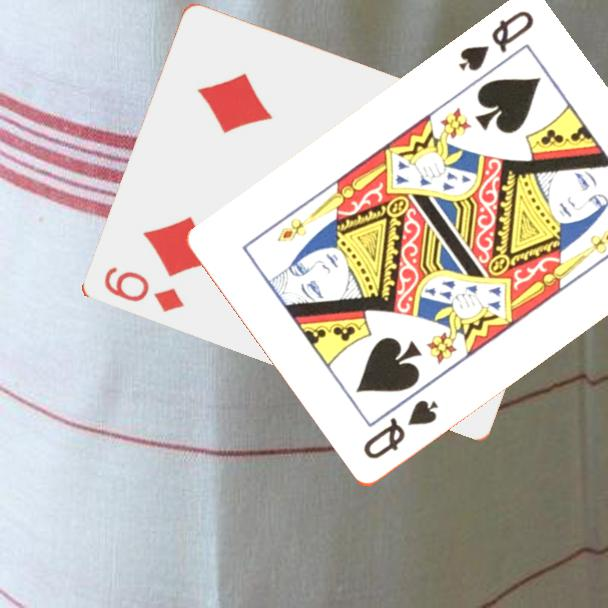d06: (99, 263, 187, 316)
s12: (454, 8, 537, 75), (359, 397, 441, 463)
